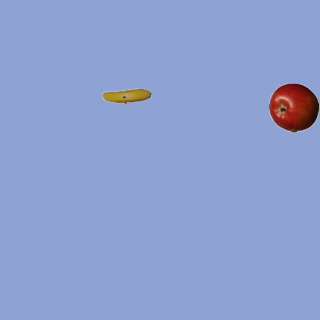Apple Braeburn: (268, 82, 318, 132)
Banana: (101, 71, 151, 121)
